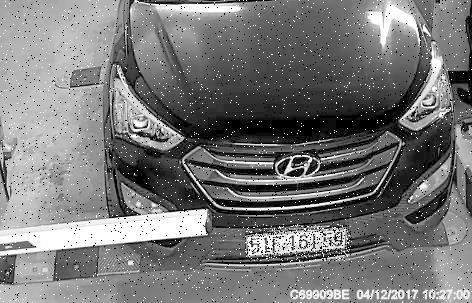License-plate: (247, 226, 353, 262)
